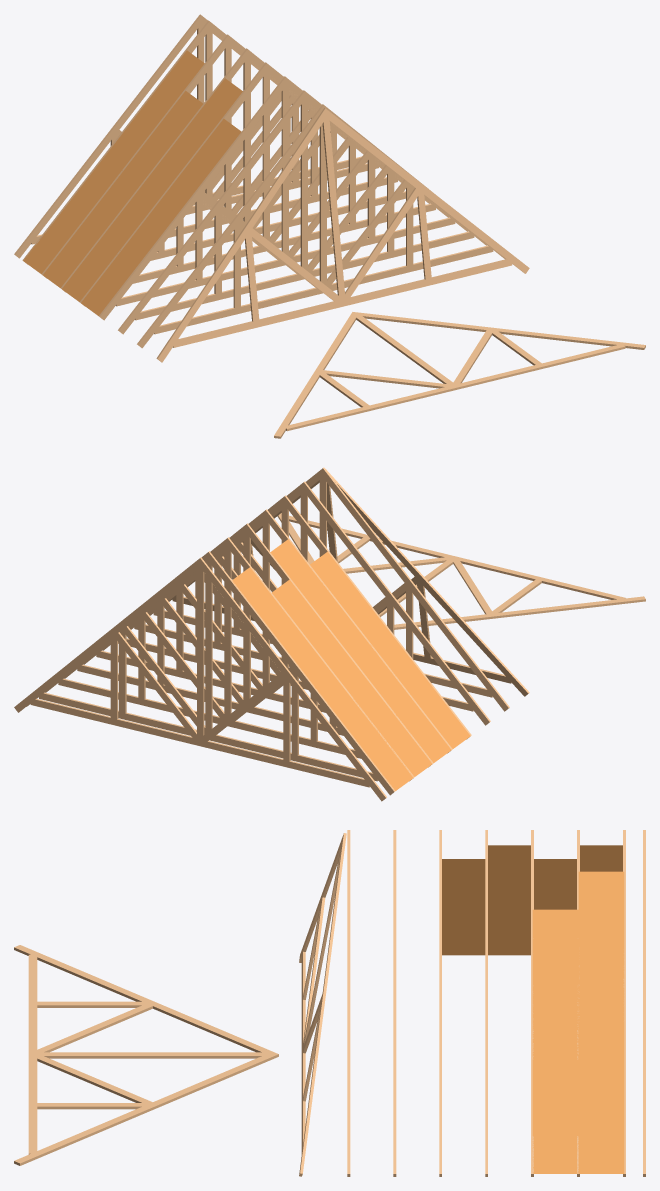
The model's file is Structural Wood Trusses.dae.
The picture shows the model from 3 angles, top to bottom: view 1: azimuth 30°, elevation 25°; view 2: azimuth 150°, elevation 25°; view 3: azimuth 270°, elevation 25°; orthographic projection. The views are drawn at different scales.
Visible parts, largest first — view 1: group_2 (×10), group_3 (×8), group_5 (×7), group_6 (×7), group_4 (×2), group_8 (×2), group_33, group_31, group_42, group_38, group_29, group_32 (+12 smaller); view 2: group_2 (×10), group_3 (×10), group_5 (×5), group_6 (×6), group_4, group_33, group_36, group_34, group_31, group_42, group_43, group_40 (+12 smaller); view 3: group_4 (×9), group_27, group_25, group_24, group_23, group_20, group_22, group_26, group_3 (×2), group_2 (×2), group_5 (×2), group_21 (+15 smaller).
Boxes of the visible parts, x1,y1,x2,y2 form: group_2 (×10): (14,14,357,438); group_3 (×8): (116,176,625,431); group_5 (×7): (243,58,455,385); group_6 (×7): (212,95,420,298); group_4 (×2): (325,108,645,349); group_8 (×2): (249,228,448,388); group_33: (23,209,81,274); group_31: (64,156,122,221); group_42: (62,236,120,301); group_38: (143,131,201,196); group_29: (105,103,163,168); group_32: (145,91,203,156); group_2 (×10): (200,467,645,801); group_3 (×10): (30,515,625,787); group_5 (×5): (197,519,269,740); group_6 (×6): (114,573,281,738); group_4: (14,558,199,712); group_33: (355,725,413,790); group_36: (353,685,411,750); group_34: (232,567,290,632); group_31: (314,673,372,737); group_42: (393,697,451,762); group_43: (270,539,328,604); group_40: (352,644,410,709); group_4 (×9): (14,830,645,1176); group_27: (532,1060,578,1136); group_25: (578,871,624,947); group_24: (578,1098,624,1173); group_23: (532,909,578,984); group_20: (578,947,624,1022); group_22: (578,1023,624,1098); group_26: (532,985,578,1060); group_3 (×2): (28,951,305,1154); group_2 (×2): (14,834,343,1054); group_5 (×2): (37,845,341,1058); group_21: (532,1136,578,1173).
Size of the model in its own units: 355 by 433 by 182.
